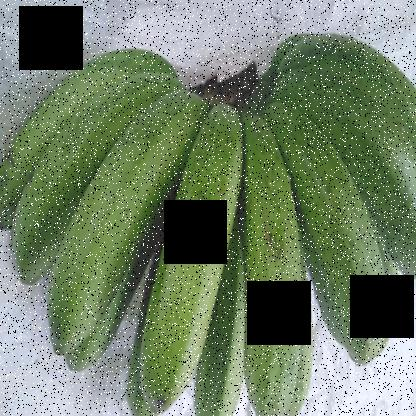unripe: (41, 96, 177, 358), (131, 101, 243, 415), (284, 88, 389, 374), (234, 122, 307, 415)
